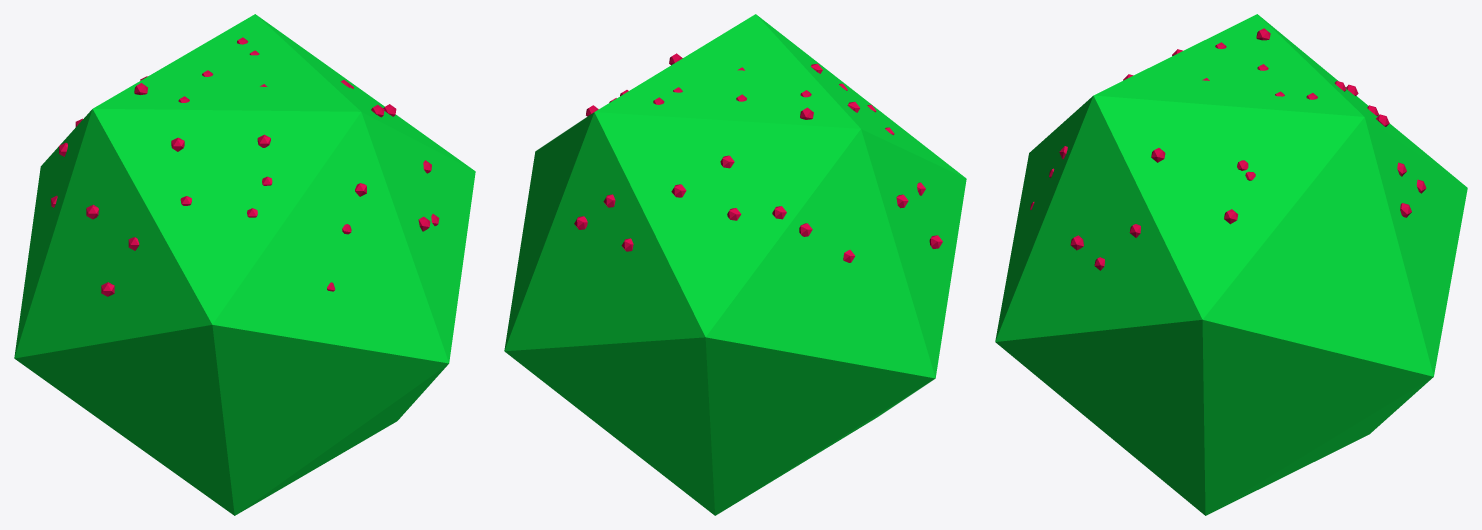
3 renders of one model, left to right at view 1: azimuth 30°, elevation 25°; view 2: azimuth 150°, elevation 25°; view 3: azimuth 270°, elevation 25°, orthographic.
Visible parts, largest first — view 1: Icosphere; view 2: Icosphere; view 3: Icosphere.
Part boxes in pixels (x1=…): Icosphere: x1=14, y1=14, x2=475, y2=515; Icosphere: x1=504, y1=14, x2=966, y2=515; Icosphere: x1=995, y1=14, x2=1467, y2=515.
Bounding box in the file's own units: 273 × 231 × 256.
